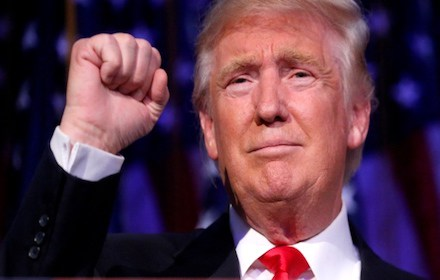fist: (62, 30, 171, 148)
